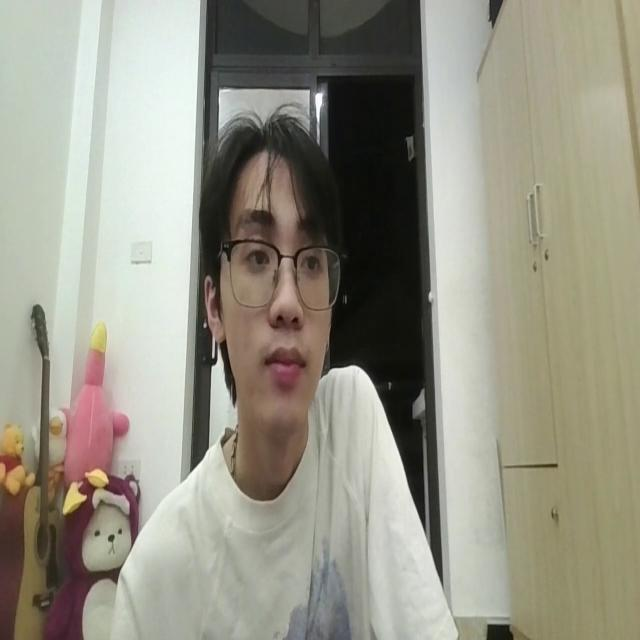student: (114, 104, 456, 640)
